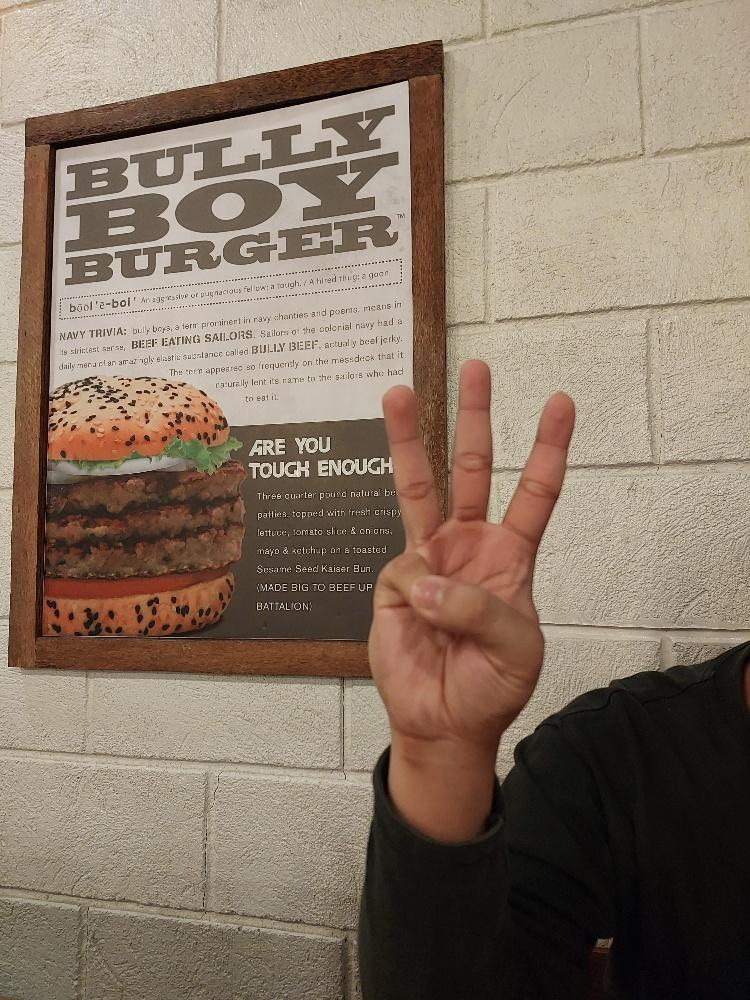w: (365, 356, 576, 746)
